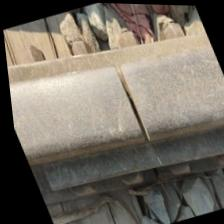person: (68, 45, 192, 162)
